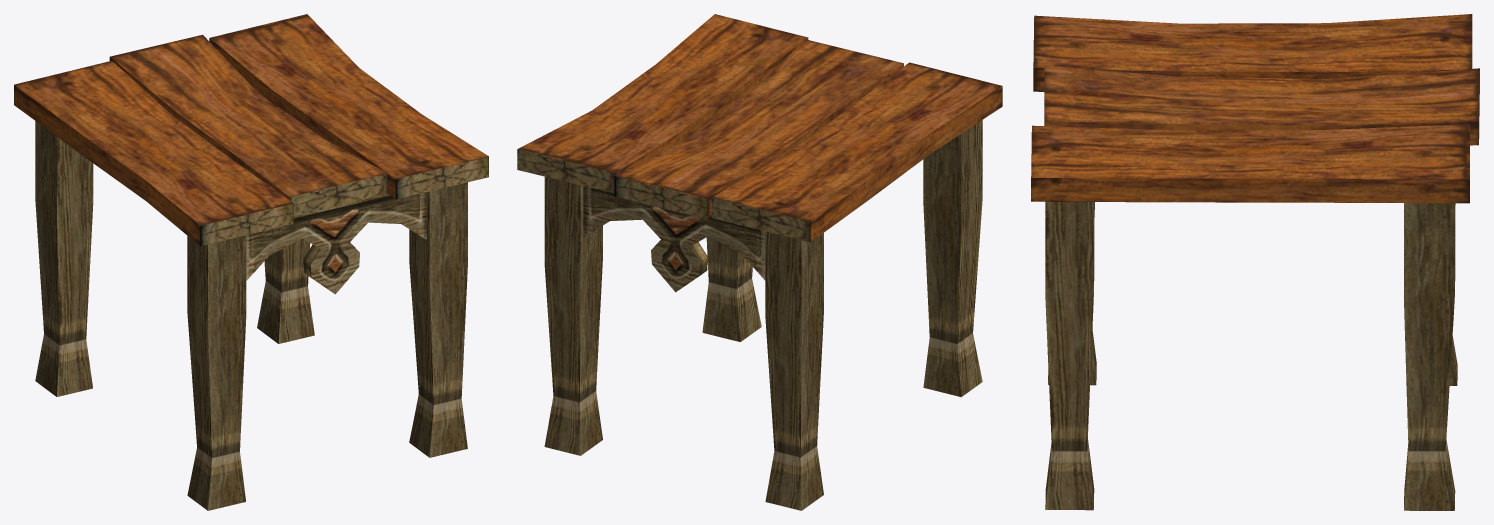
Rendered from LVL_RIV_INST_SMALL_TABLE.fbx.
The picture shows the model from 3 angles, left to right: view 1: azimuth 30°, elevation 25°; view 2: azimuth 150°, elevation 25°; view 3: azimuth 270°, elevation 25°; orthographic projection. The views are drawn at different scales.
Parts seen in each view (by area): view 1: LVL_RIV_INST_SMALL_TABLE; view 2: LVL_RIV_INST_SMALL_TABLE; view 3: LVL_RIV_INST_SMALL_TABLE.
Boxes of the visible parts, left/top/right/bottom form: LVL_RIV_INST_SMALL_TABLE: left=14, top=14, right=488, bottom=510; LVL_RIV_INST_SMALL_TABLE: left=517, top=14, right=1002, bottom=510; LVL_RIV_INST_SMALL_TABLE: left=1031, top=14, right=1479, bottom=510.
Bounding box in the file's own units: 8087 × 7786 × 9187.
5 materials, 5 textured.
